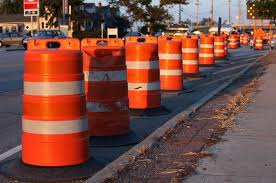barrel: (23, 39, 84, 164), (79, 37, 131, 133), (124, 38, 161, 105), (155, 38, 186, 89), (181, 35, 199, 72), (198, 35, 214, 63), (214, 37, 224, 56), (255, 37, 263, 49), (223, 38, 228, 56), (229, 37, 237, 48), (242, 34, 249, 45)
